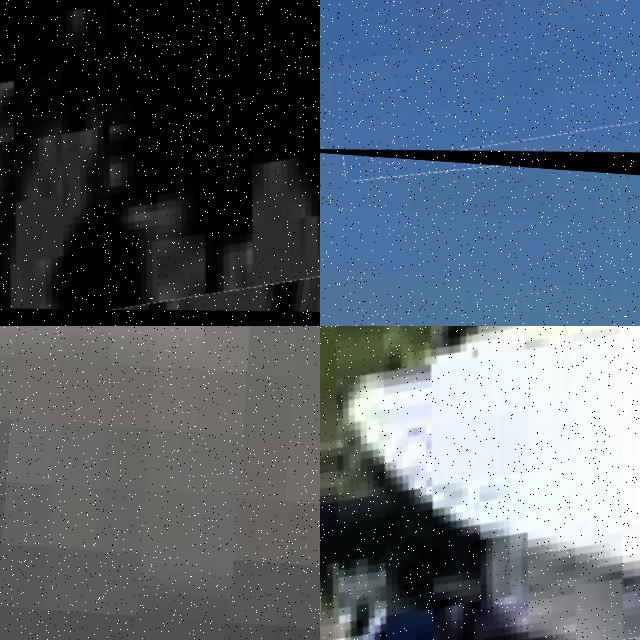drone: (0, 0, 320, 326), (320, 326, 640, 640), (320, 0, 640, 196)
